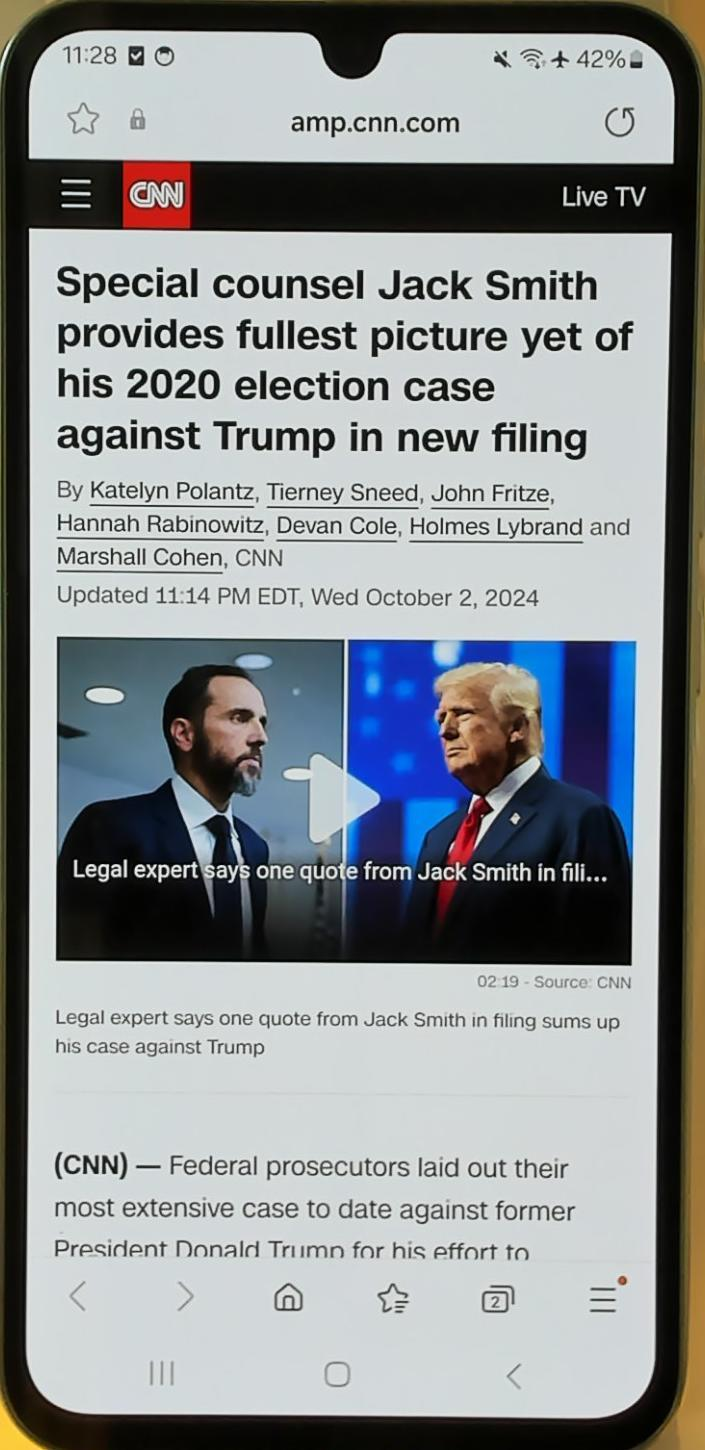CommunBotton: (292, 724, 388, 856), (468, 1336, 550, 1406), (134, 1344, 214, 1398), (258, 1266, 316, 1322), (594, 90, 648, 150), (308, 1350, 366, 1400), (52, 1258, 98, 1318), (368, 1274, 420, 1324), (166, 1270, 208, 1322), (476, 1276, 524, 1320)
menu: (48, 150, 106, 226), (576, 1268, 640, 1328)
